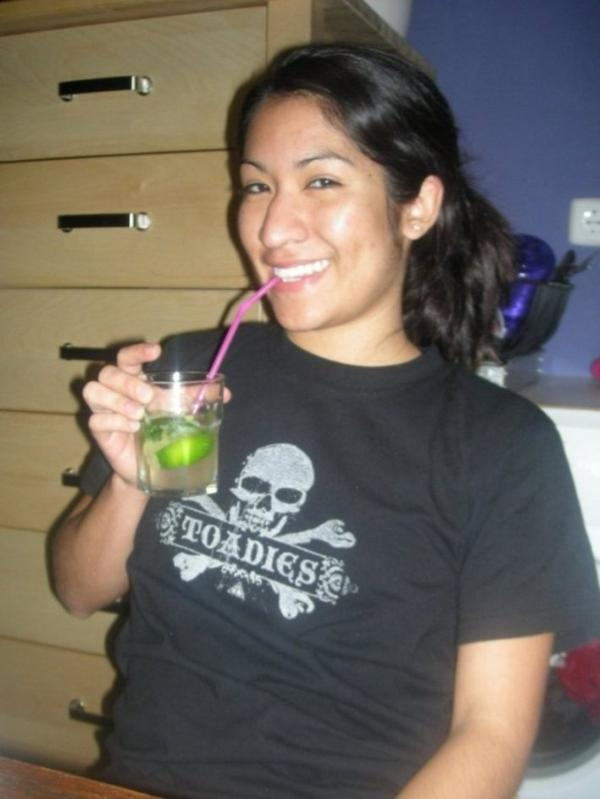person: (46, 39, 596, 798)
